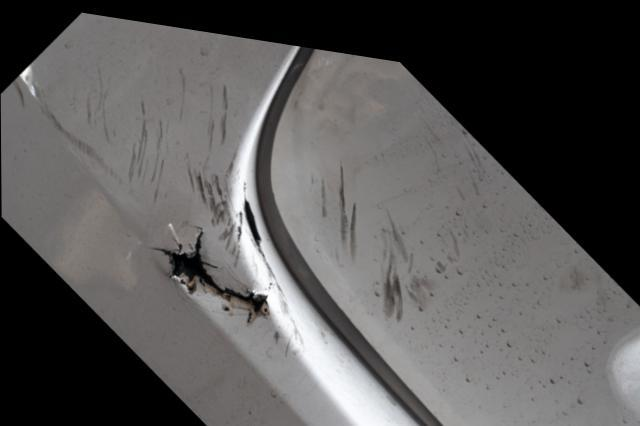crack: (148, 181, 285, 305)
scratch: (3, 50, 246, 243), (295, 144, 440, 312)
